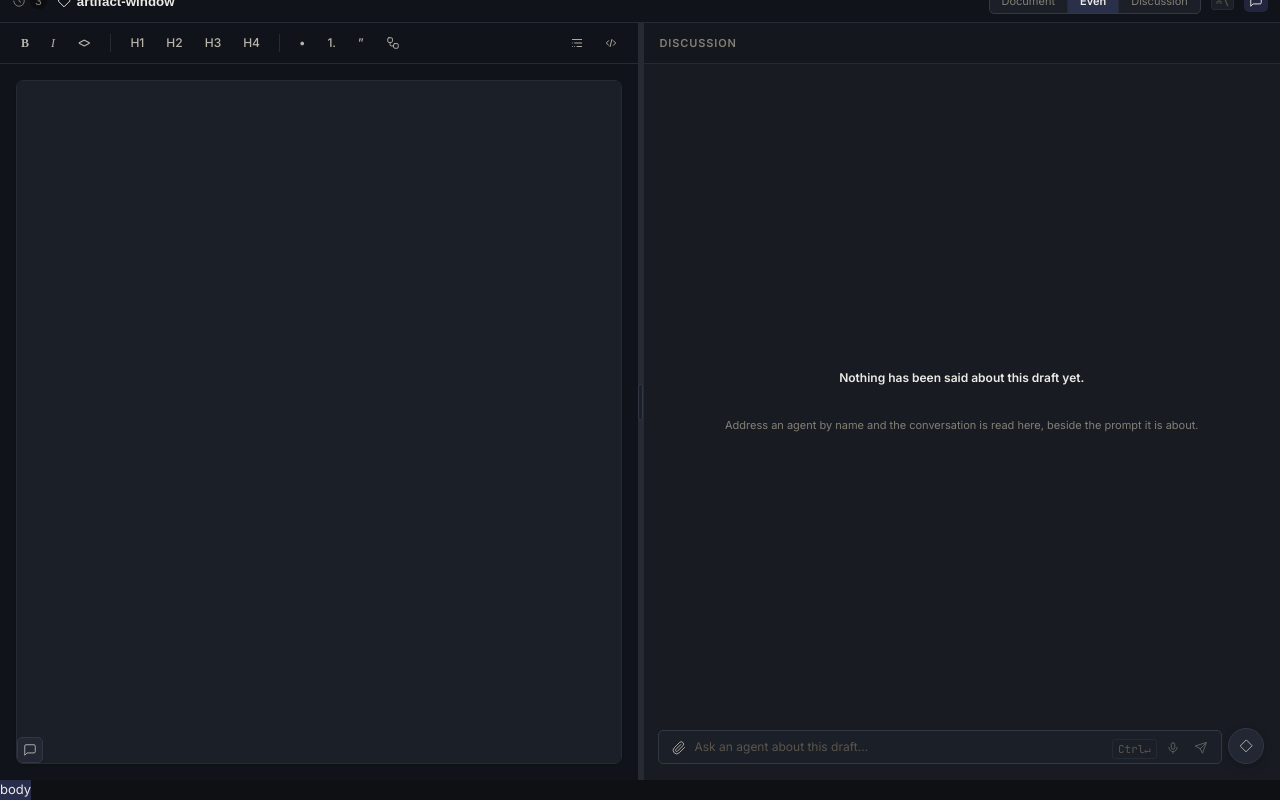
Scenario: a comment on a passage of the prompt (DDS-FR-QMBC, NAW-FR-32) › DDS-FR-QMBC, NAW-FR-32, CMT-FR-05: Comment on a selection opens the column's composer for that passage, and posting opens a fragment discussion of the draft
(page scrolled)
Step 1. Click the button named "Comment on selection" → (30, 750), box [17, 737, 43, 763]
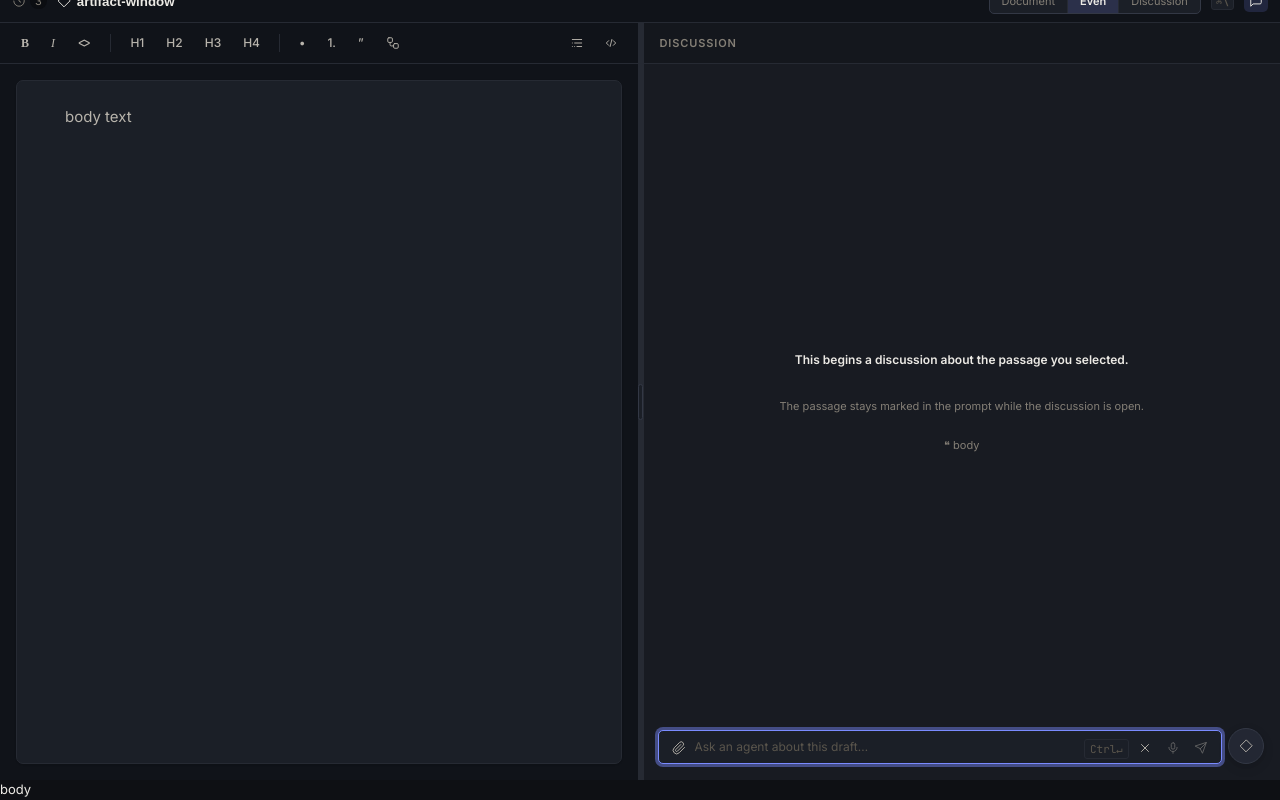
Check: the text with test id "discussion-opening-fragment" shows "body", box [953, 438, 979, 452]
Step 2. Type "tighten this" into the text box named "Discuss this draft" → (887, 747), box [694, 735, 1080, 759]
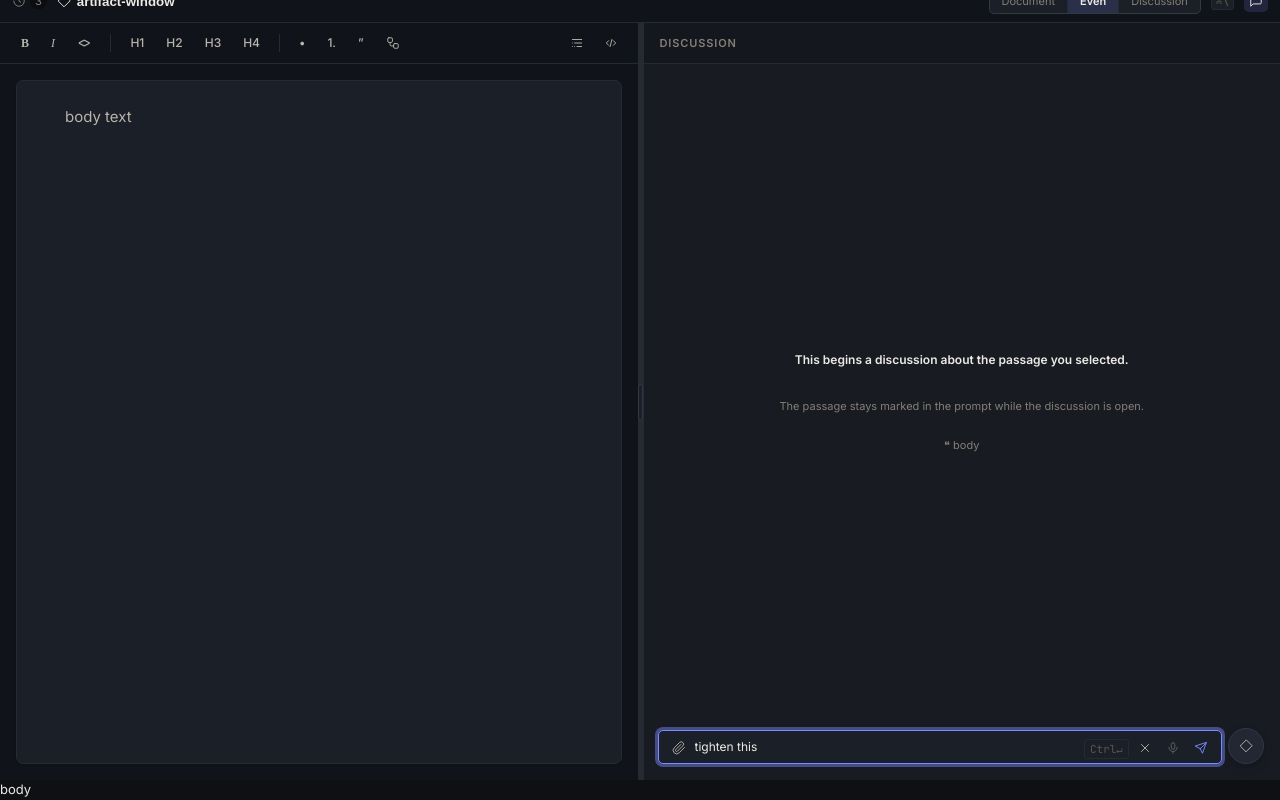
Step 3. Press Enter in the text box named "Discuss this draft", box [694, 735, 1080, 759]
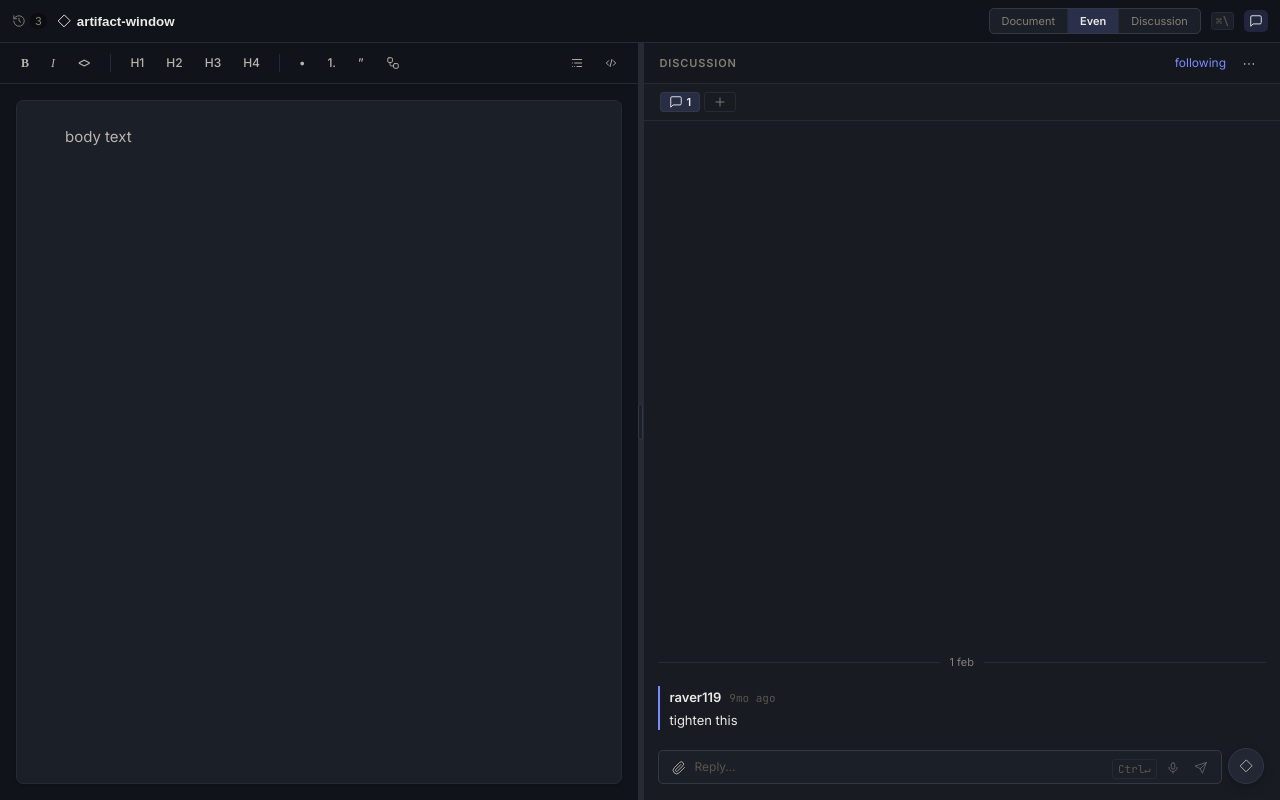
Check: the text with test id "discussion-opening-fragment" is gone
Check: the element with test id "comment-thread-disc-1" is shown, box [644, 121, 1279, 799]
